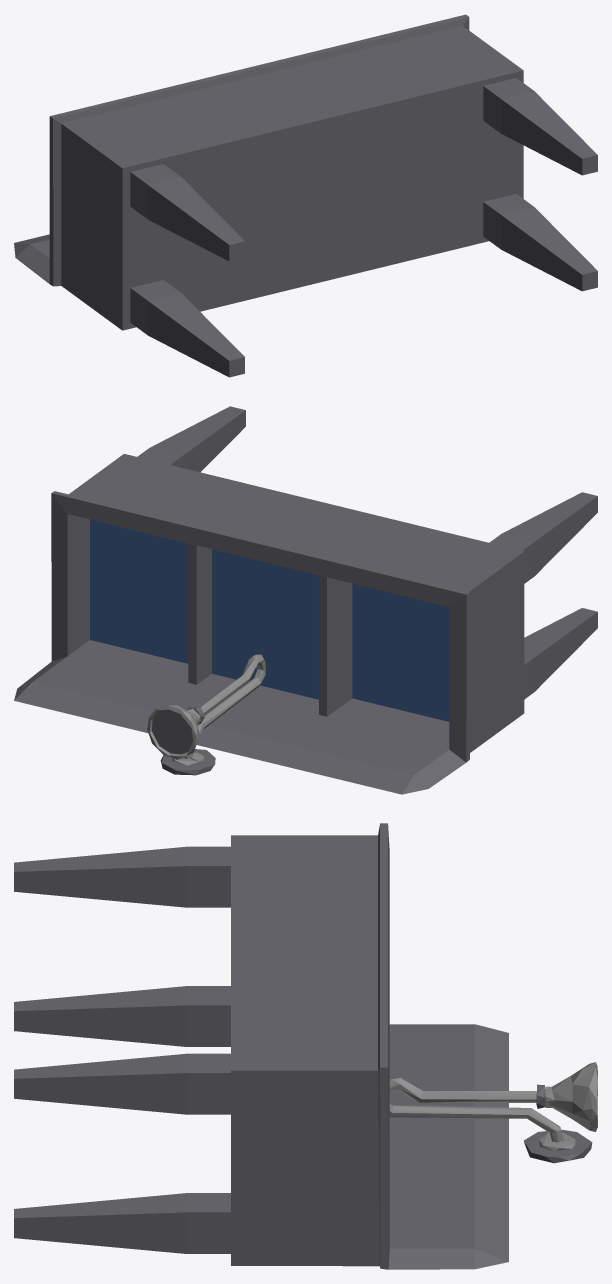
The model's file is triplesink.fbx.
3 renders of one model, top to bottom at view 1: azimuth 30°, elevation 25°; view 2: azimuth 150°, elevation 25°; view 3: azimuth 270°, elevation 25°, orthographic. The views are drawn at different scales.
Parts seen in each view (by area): view 1: TripleSink; view 2: TripleSink; view 3: TripleSink.
Boxes of the visible parts, x1,y1,x2,y2 form: TripleSink: (14,14,597,377); TripleSink: (14,406,597,794); TripleSink: (14,823,597,1269).
Bounding box in the file's own units: 708 × 276 × 715.
